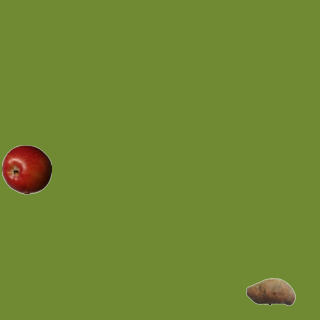Apple Braeburn: (1, 144, 51, 194)
Potato Sweet: (245, 266, 295, 316)
